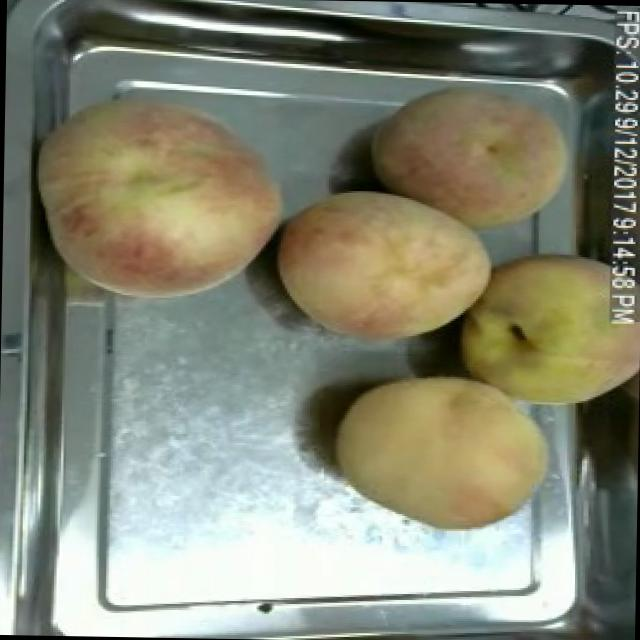Fruit: (27, 72, 297, 314), (267, 175, 503, 355), (326, 362, 560, 542), (361, 72, 580, 244), (447, 238, 640, 421)
